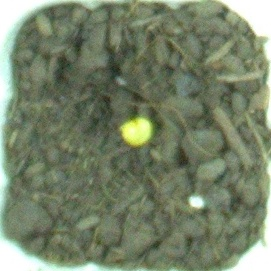pepper seed: (39, 41, 195, 190)
